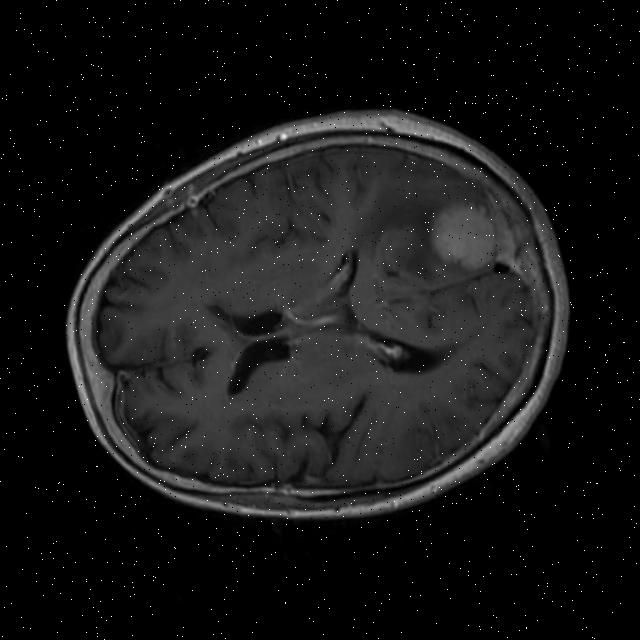Meningioma: (417, 184, 524, 282)
